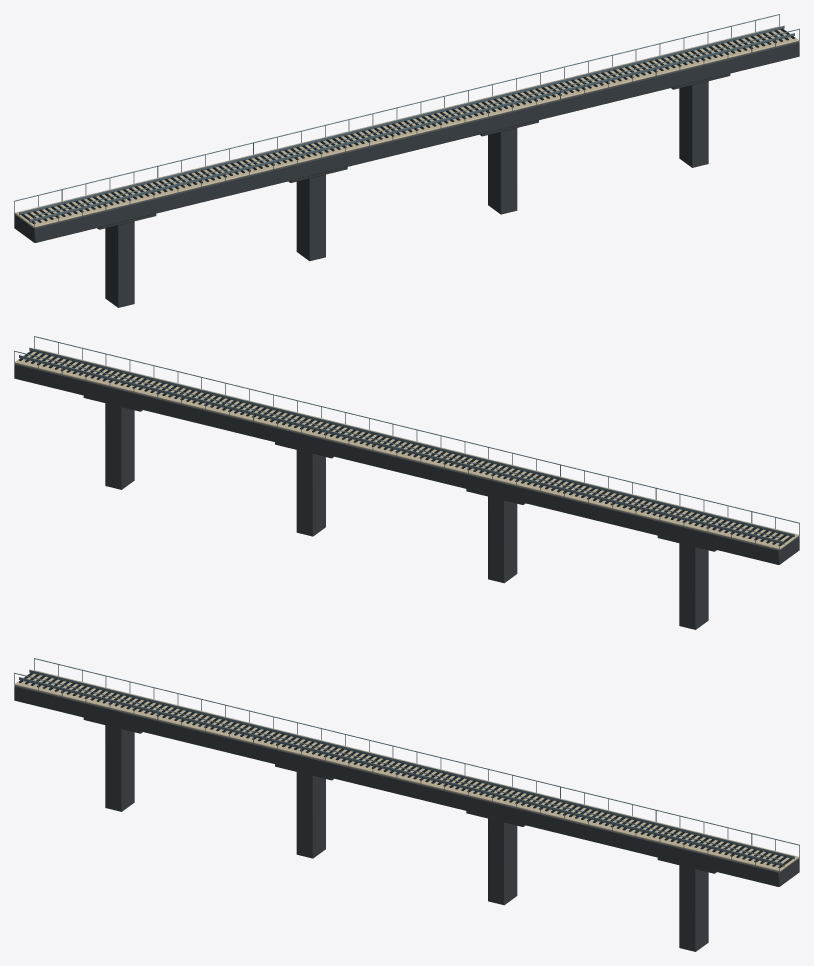
Rendered from railway_viaduct.glb.
The picture shows the model from 3 angles, top to bottom: view 1: azimuth 30°, elevation 25°; view 2: azimuth 150°, elevation 25°; view 3: azimuth 330°, elevation 25°; orthographic projection.
Visible parts, largest first — view 1: Detail.railway_viaduct.Concrete, Detail.railway_viaduct.Stone, Detail.railway_viaduct.Metal, Detail.railway_viaduct.Dark; view 2: Detail.railway_viaduct.Concrete, Detail.railway_viaduct.Stone, Detail.railway_viaduct.Metal, Detail.railway_viaduct.Dark; view 3: Detail.railway_viaduct.Concrete, Detail.railway_viaduct.Stone, Detail.railway_viaduct.Metal, Detail.railway_viaduct.Dark.
Part boxes in pixels (x1,y1,x2,y2): Detail.railway_viaduct.Concrete: [14, 41, 799, 307]; Detail.railway_viaduct.Stone: [15, 26, 798, 227]; Detail.railway_viaduct.Metal: [14, 14, 799, 228]; Detail.railway_viaduct.Dark: [21, 28, 794, 223]; Detail.railway_viaduct.Concrete: [14, 363, 799, 629]; Detail.railway_viaduct.Stone: [15, 348, 798, 549]; Detail.railway_viaduct.Metal: [14, 336, 799, 550]; Detail.railway_viaduct.Dark: [19, 350, 792, 545]; Detail.railway_viaduct.Concrete: [14, 685, 799, 951]; Detail.railway_viaduct.Stone: [15, 670, 798, 871]; Detail.railway_viaduct.Metal: [14, 658, 799, 872]; Detail.railway_viaduct.Dark: [19, 672, 792, 867].
Bounding box in the file's own units: 64.05 × 9.32 × 3.
